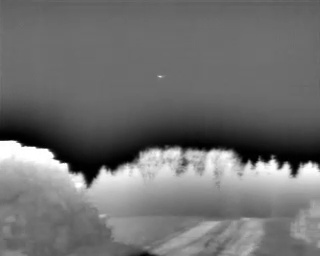AIRPLANE: (156, 72, 165, 81)
